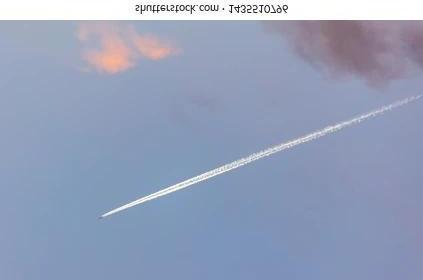Plane: (90, 162, 199, 233)
